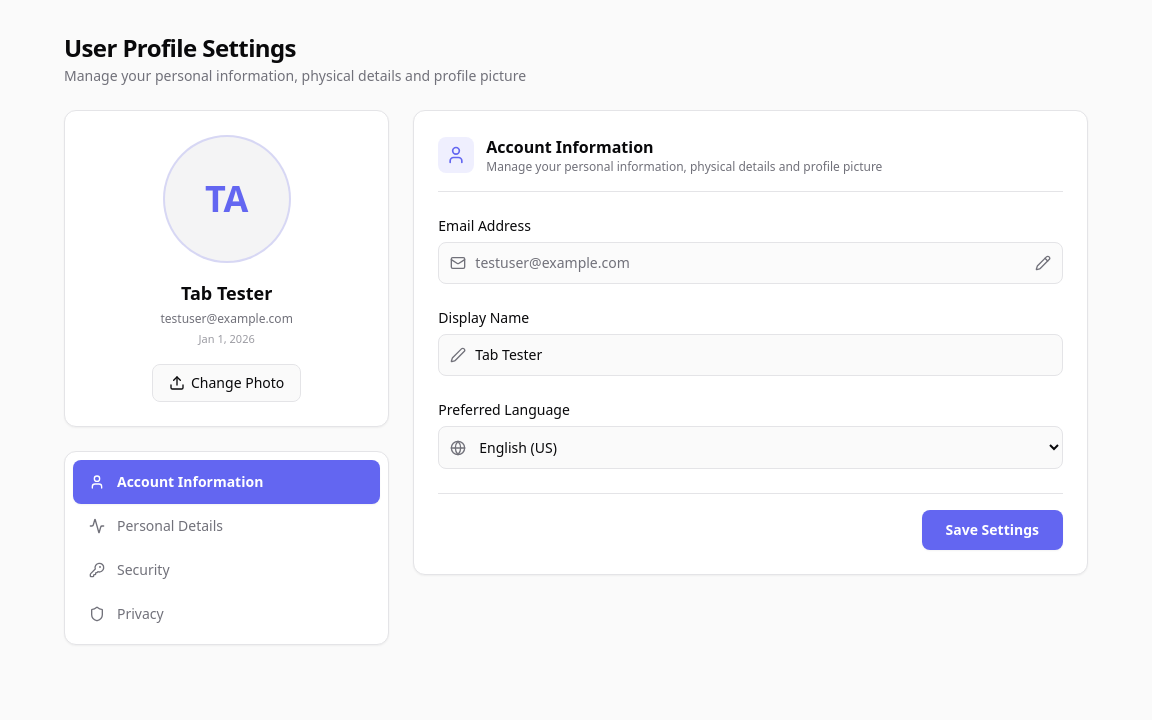
Test case: Profile Tabbed Navigation and Functionality › switches to Personal Details tab and calculates age in real-time
Switch to Personal Details
Click the tab "Personal Details" at (170, 525), box [73, 504, 380, 548]
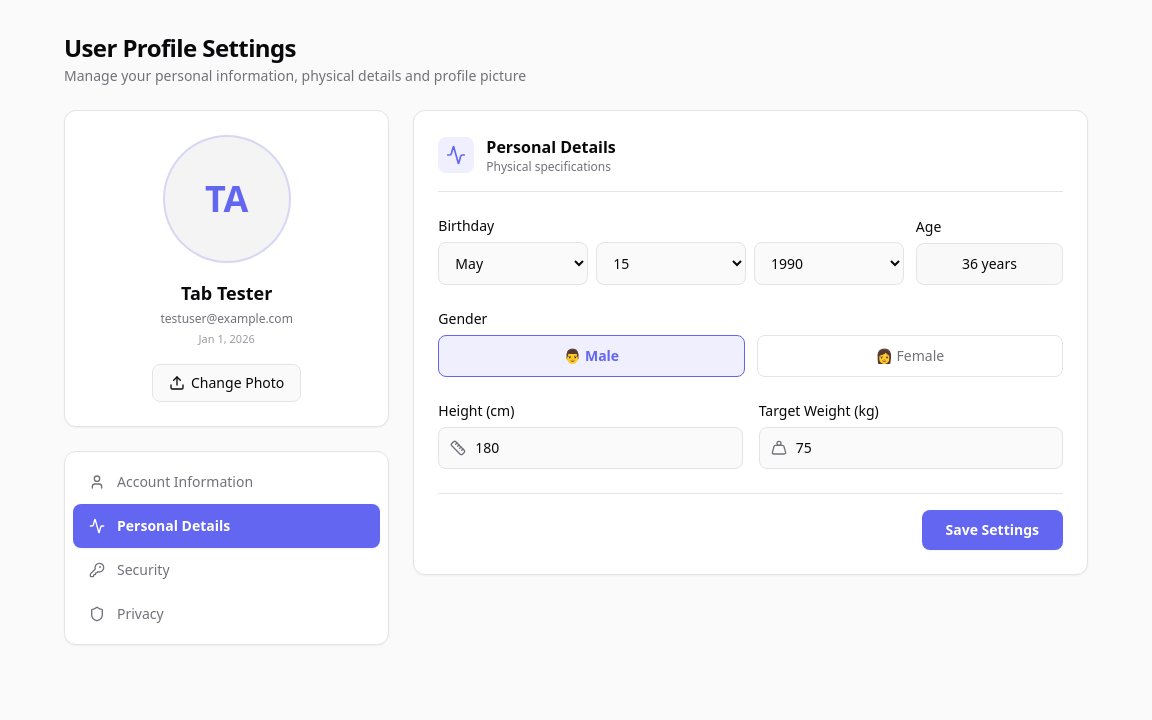
Expected: the panel "Personal Details" is shown, [413, 110, 1088, 575]
Expected: the field labelled "Age" holds "36 years", [916, 243, 1063, 285]
Expected: the dropdown with id "birthday-year" is shown
Select "2000" in the dropdown with id "birthday-year" at (829, 264), box [754, 242, 904, 285]
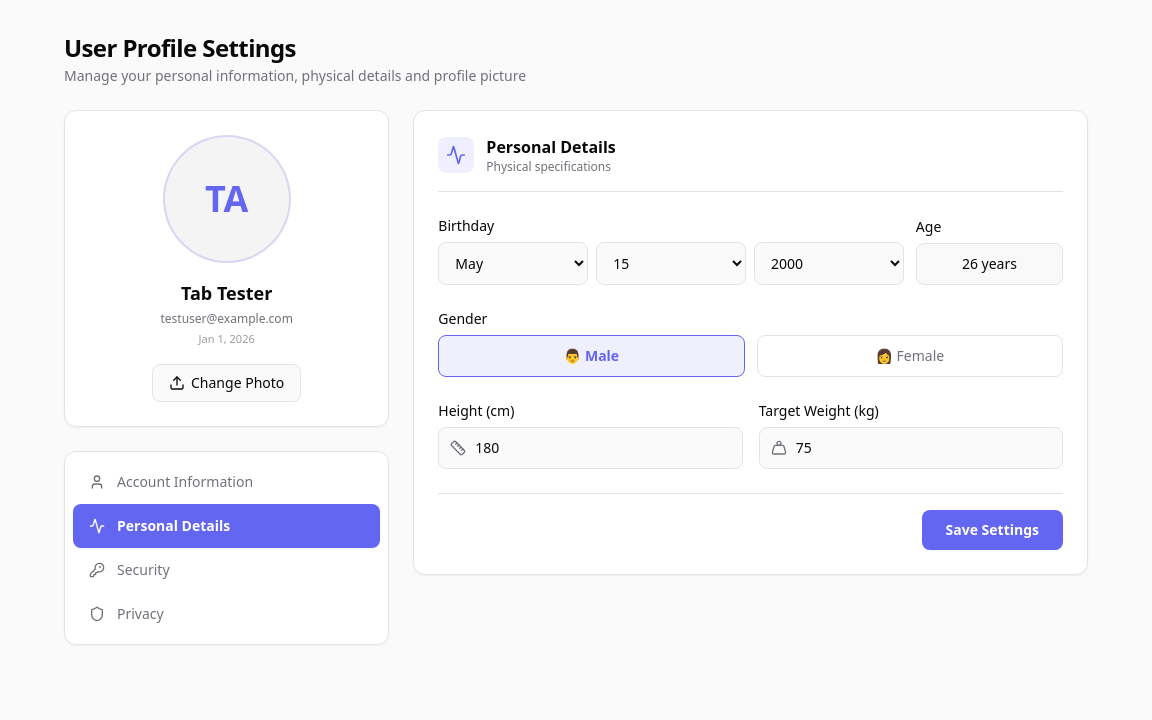
Expected: the field labelled "Age" holds "26 years", [916, 243, 1063, 285]
